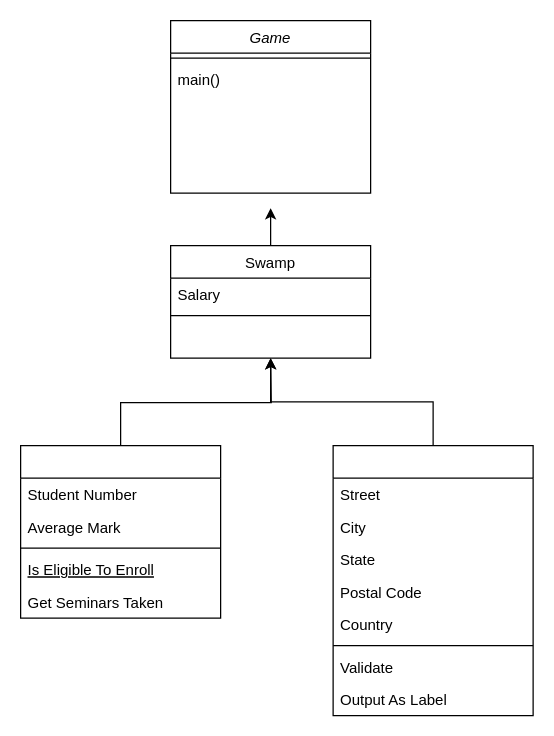
This 554x736 diagram has some shape labels left out. Each missing label, with the box of its shape:
Hunter: (19, 444, 221, 618)
Snark: (332, 444, 533, 716)
